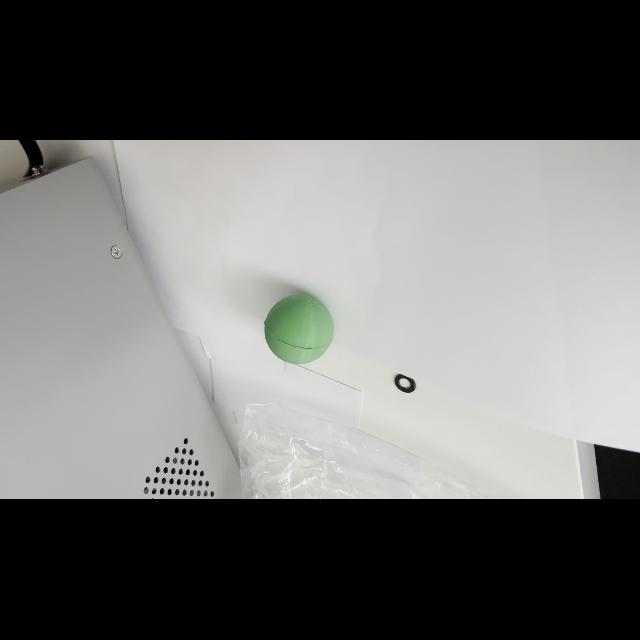objects: (259, 288, 339, 368)
